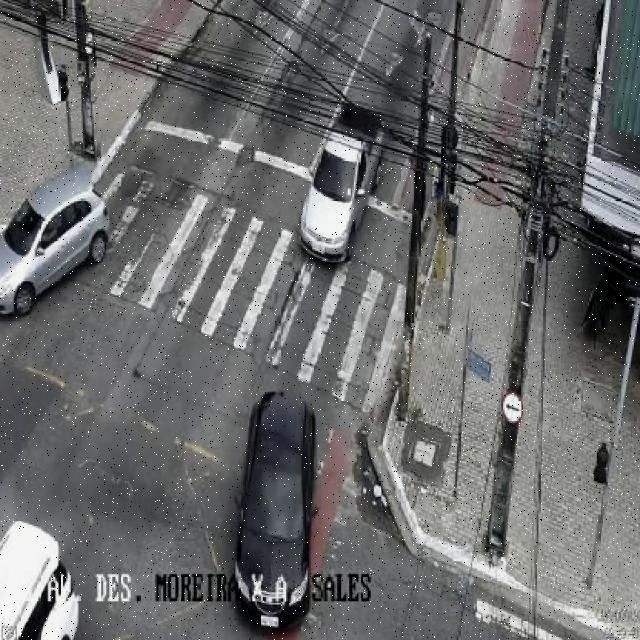Car: (238, 392, 320, 636), (0, 170, 110, 318), (302, 104, 382, 262), (2, 520, 77, 640)
